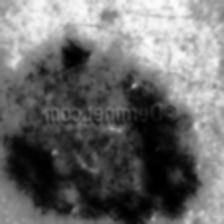Potentially Malignant Skin Tumors: (2, 125, 204, 224), (9, 36, 165, 106)
